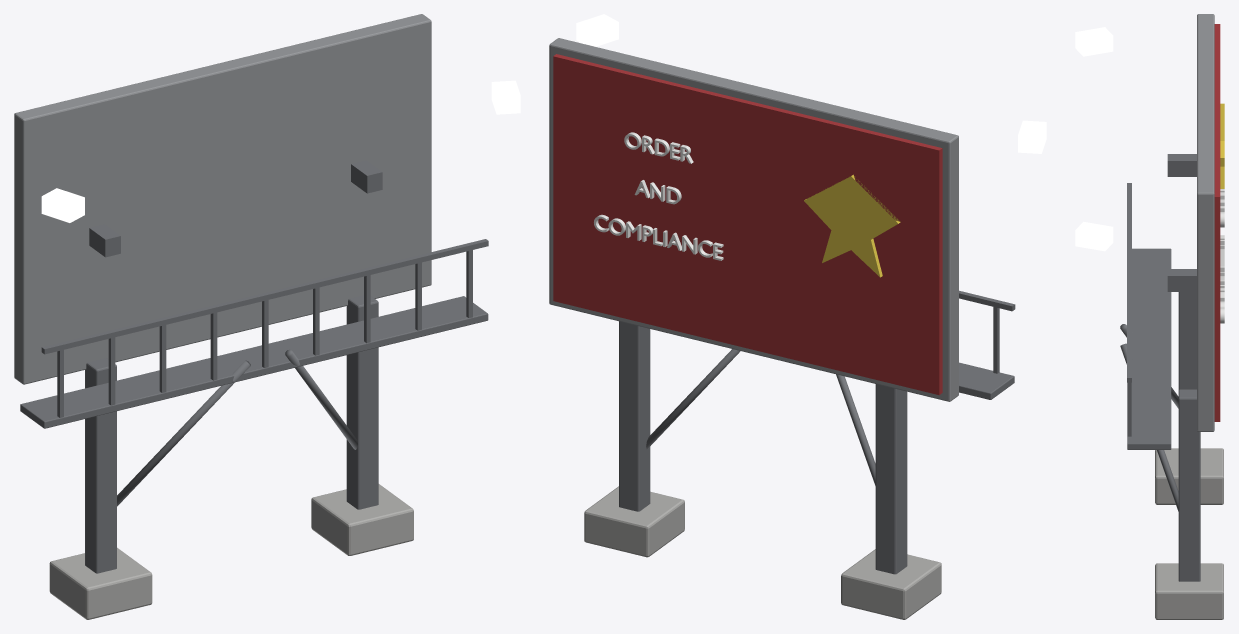
File: billboard.glb
3 views of the same model, side by side, from view 1: azimuth 30°, elevation 25°; view 2: azimuth 150°, elevation 25°; view 3: azimuth 270°, elevation 25° (orthographic). The views are drawn at different scales.
Parts seen in each view (by area): view 1: Env_billboard; view 2: Env_billboard; view 3: Env_billboard.
Boxes of the visible parts, x1=… form: Env_billboard: x1=14, y1=14, x2=520, y2=619; Env_billboard: x1=549, y1=14, x2=1046, y2=619; Env_billboard: x1=1075, y1=14, x2=1224, y2=619.
Size of the model in its own units: 6.72 by 6.7 by 2.04.
